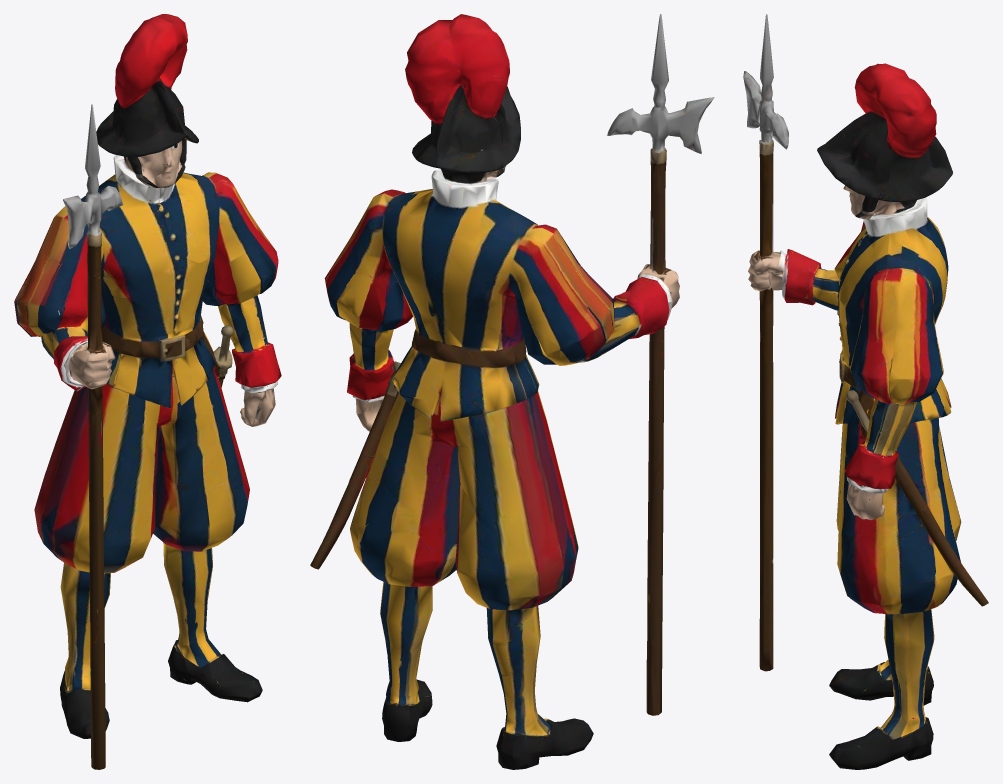
The model's file is swiss.glb.
3 renders of one model, left to right at view 1: azimuth 30°, elevation 25°; view 2: azimuth 150°, elevation 25°; view 3: azimuth 270°, elevation 25°, orthographic. The views are drawn at different scales.
Bounding box in the file's own units: 0.8361 × 1.9 × 0.6348.
1 material, 1 textured.
